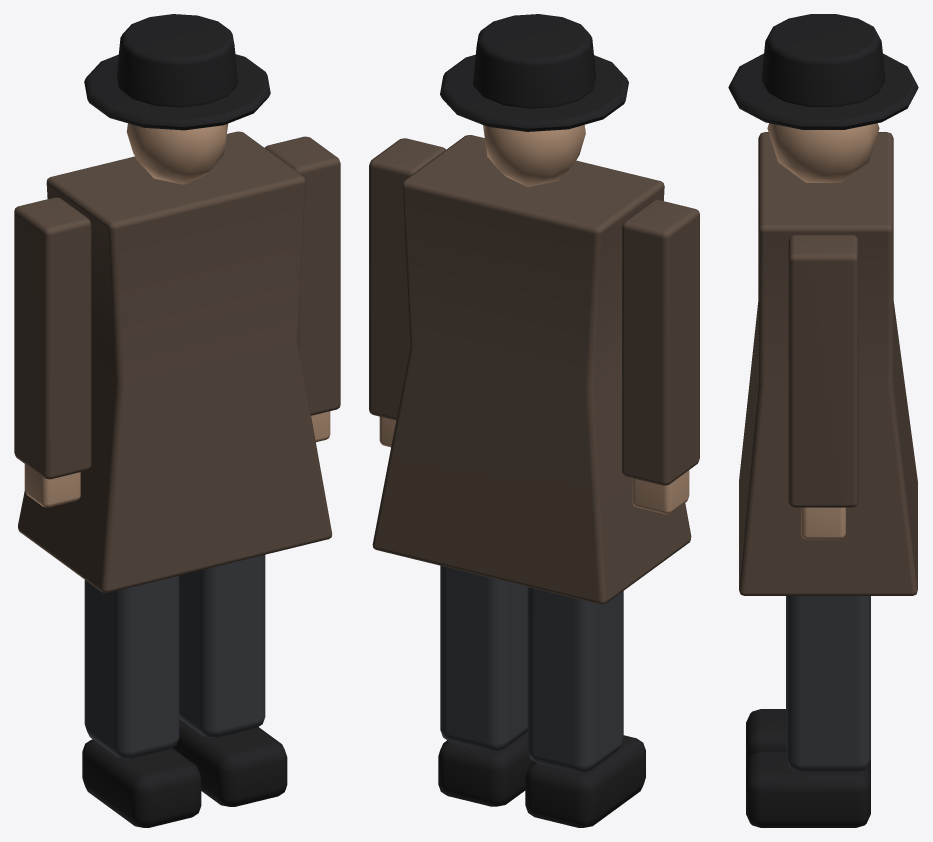
The model's file is man.glb.
3 renders of one model, left to right at view 1: azimuth 30°, elevation 25°; view 2: azimuth 150°, elevation 25°; view 3: azimuth 270°, elevation 25°, orthographic.
Parts seen in each view (by area): view 1: Burger, LegL, LegR; view 2: Burger, LegL, LegR; view 3: Burger, LegR, LegL.
Part boxes in pixels (x1=…): Burger: x1=14, y1=14, x2=340, y2=592; LegL: x1=82, y1=576, x2=201, y2=827; LegR: x1=173, y1=555, x2=287, y2=806; Burger: x1=369, y1=14, x2=699, y2=604; LegL: x1=525, y1=587, x2=645, y2=827; LegR: x1=438, y1=565, x2=533, y2=806; Burger: x1=728, y1=14, x2=918, y2=595; LegR: x1=746, y1=596, x2=870, y2=827; LegL: x1=746, y1=709, x2=870, y2=764.
Bounding box in the file's own units: 0.69 × 1.67 × 0.38.
